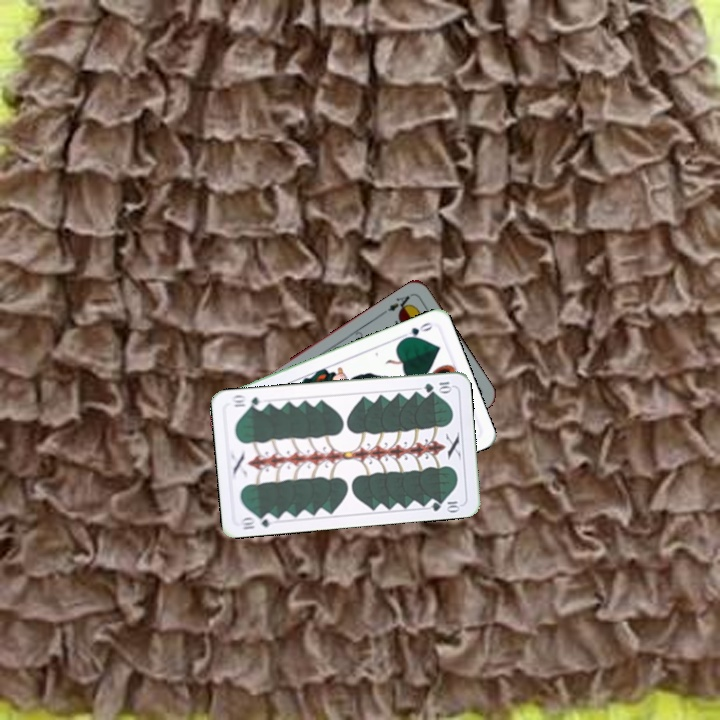EA: (379, 291, 414, 317)
G10: (236, 510, 277, 532), (420, 378, 454, 395)
GO: (396, 318, 436, 343)
